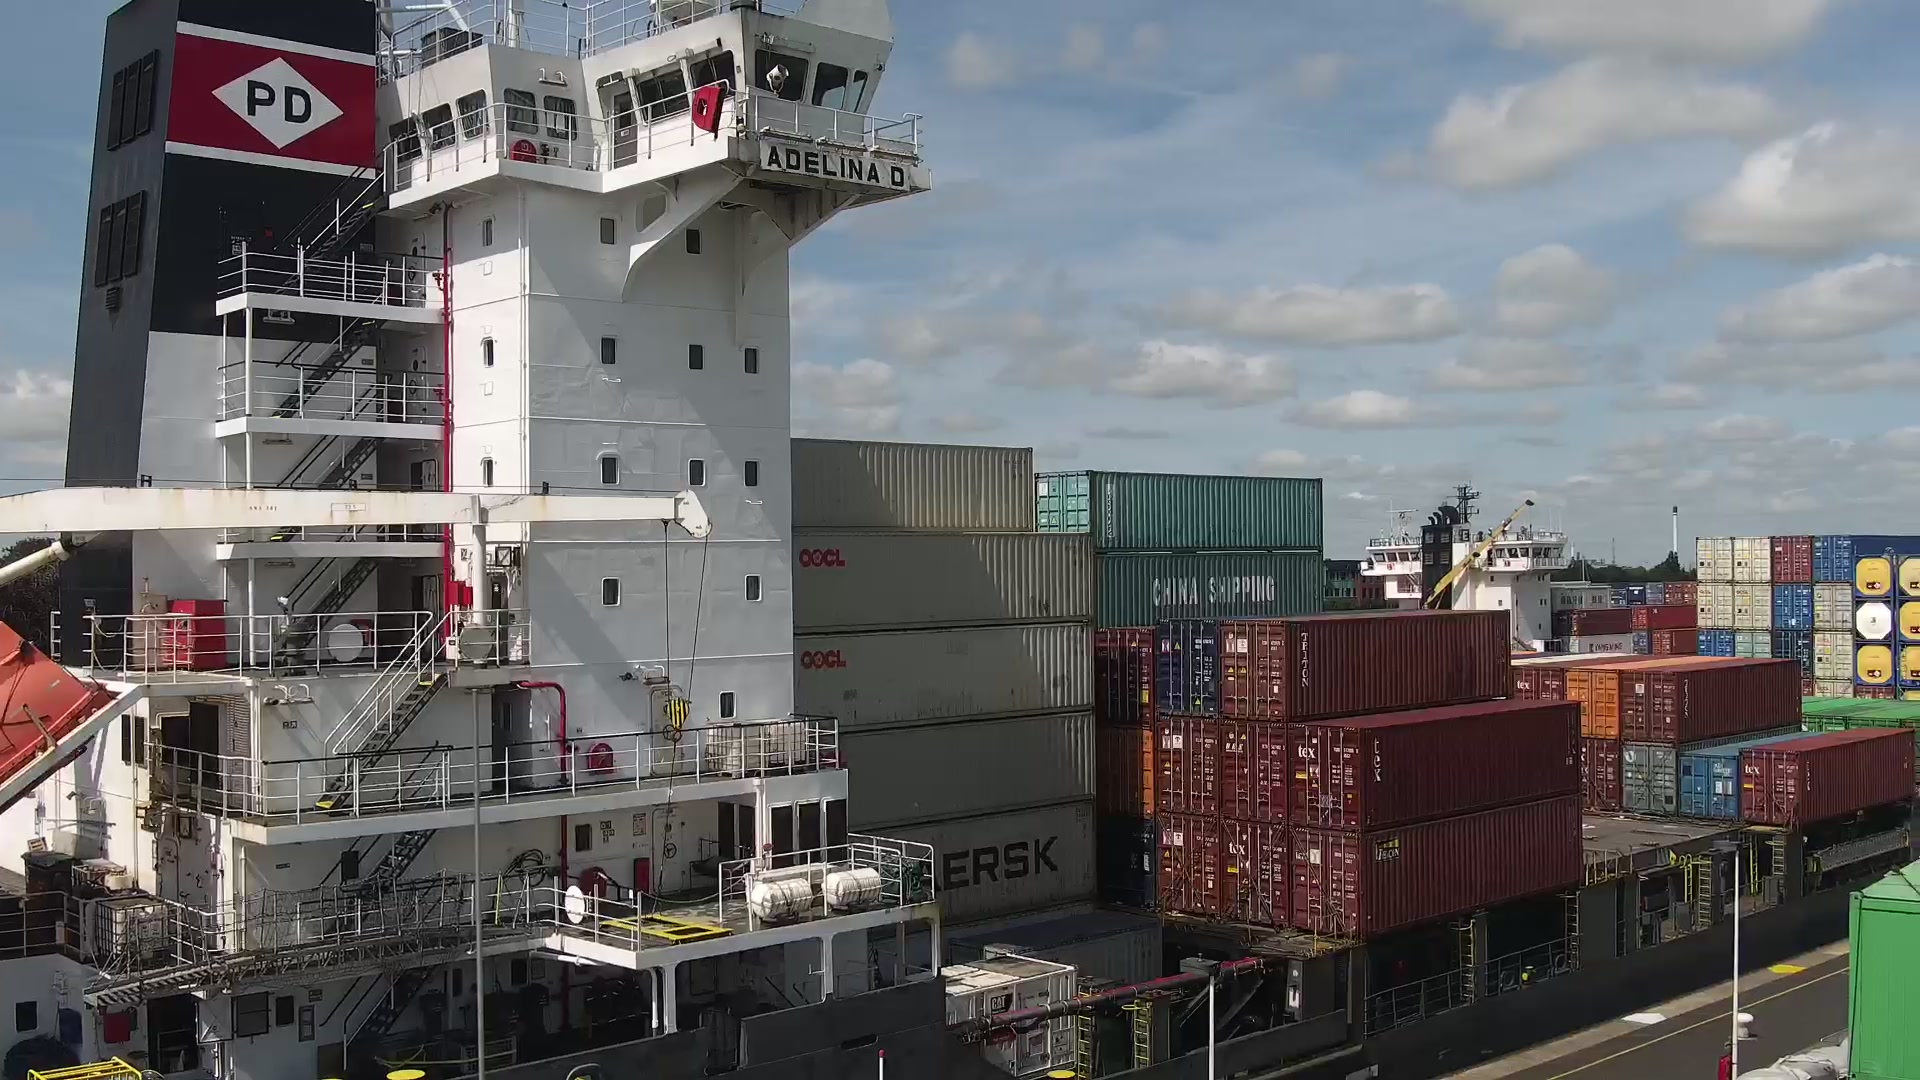sea: (1, 1, 1917, 1080)
